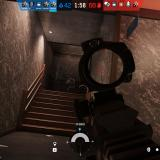Character: (65, 75, 76, 94)
Head: (66, 76, 72, 80)
